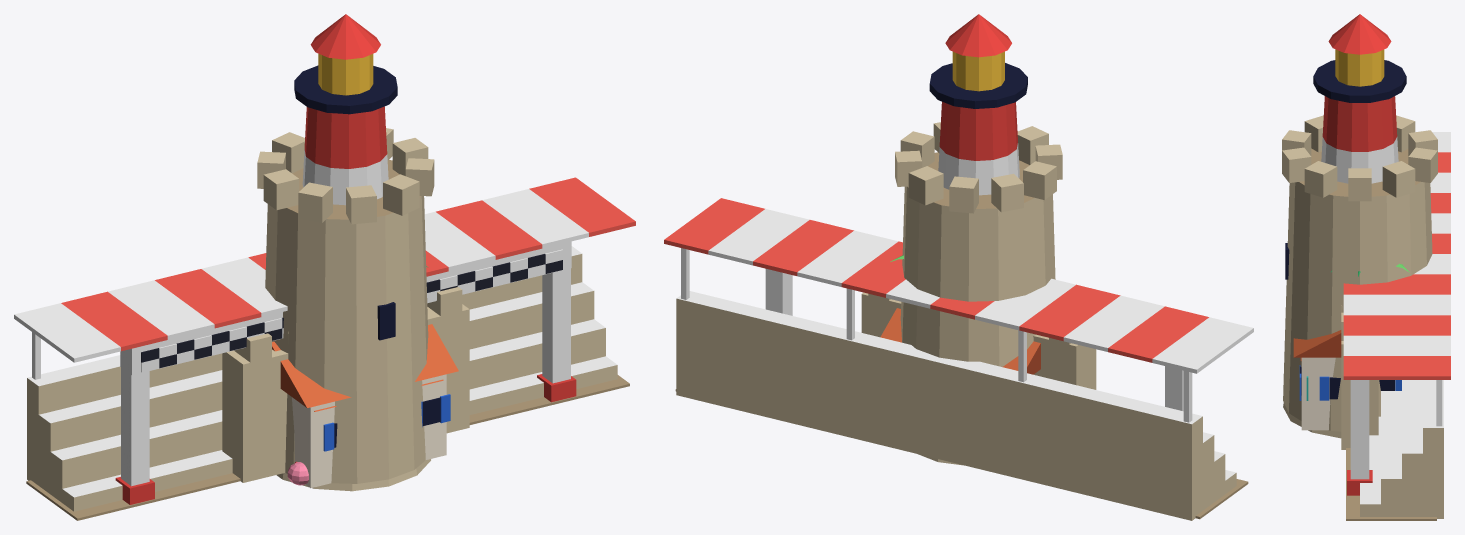
The model's file is KartProps.fbx.
3 renders of one model, left to right at view 1: azimuth 30°, elevation 25°; view 2: azimuth 150°, elevation 25°; view 3: azimuth 270°, elevation 25°, orthographic. The views are drawn at different scales.
Parts seen in each view (by area): view 1: Grandstand, CastleTower, Gantry, Lighthouse, CastleWall, HouseWhite; view 2: Grandstand, CastleTower, Lighthouse, CastleWall, Gantry, HouseWhite; view 3: CastleTower, Grandstand, Lighthouse, HouseWhite, Gantry, CastleWall.
Part boxes in pixels (x1,y1,x2,y2): Grandstand: (14, 177, 635, 520); CastleTower: (257, 128, 434, 483); Gantry: (115, 241, 576, 504); Lighthouse: (276, 14, 430, 491); CastleWall: (222, 287, 469, 482); HouseWhite: (272, 324, 458, 488); Grandstand: (664, 198, 1253, 520); CastleTower: (895, 122, 1062, 374); Lighthouse: (918, 14, 1027, 465); CastleWall: (861, 292, 1096, 389); Gantry: (765, 269, 1183, 411); HouseWhite: (880, 308, 1040, 374); CastleTower: (1282, 115, 1437, 431); Grandstand: (1343, 132, 1450, 520); Lighthouse: (1283, 14, 1406, 438); HouseWhite: (1293, 330, 1401, 430); Gantry: (1347, 380, 1372, 495); CastleWall: (1341, 305, 1378, 449).
Bounding box in the file's own units: 24.8 × 18.79 × 7.24.
Materials: 1 (1 with a texture image).
